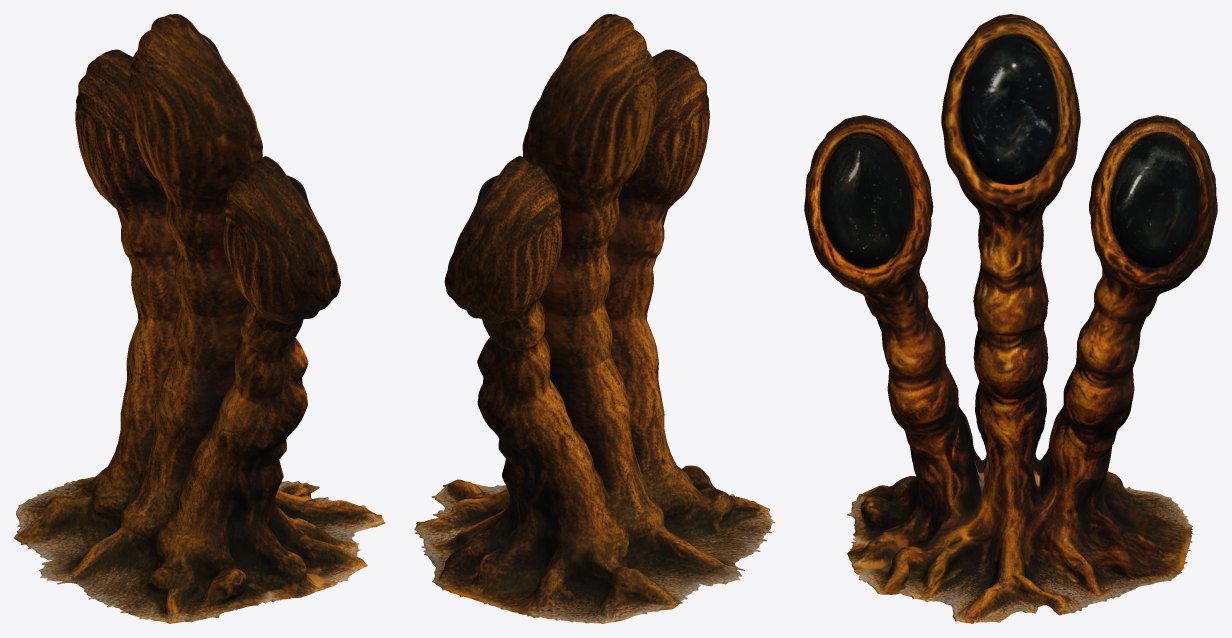
The model's file is Flora5.glb.
3 renders of one model, left to right at view 1: azimuth 30°, elevation 25°; view 2: azimuth 150°, elevation 25°; view 3: azimuth 270°, elevation 25°, orthographic.
Visible parts, largest first — view 1: tripo_node_e1e9e75e-2846-4688-8f8b-5a2ae1f148d5; view 2: tripo_node_e1e9e75e-2846-4688-8f8b-5a2ae1f148d5; view 3: tripo_node_e1e9e75e-2846-4688-8f8b-5a2ae1f148d5.
Part boxes in pixels (left/top/right/bottom): tripo_node_e1e9e75e-2846-4688-8f8b-5a2ae1f148d5: left=14, top=14, right=385, bottom=623; tripo_node_e1e9e75e-2846-4688-8f8b-5a2ae1f148d5: left=414, top=14, right=775, bottom=623; tripo_node_e1e9e75e-2846-4688-8f8b-5a2ae1f148d5: left=804, top=14, right=1217, bottom=623.
Size of the model in its own units: 0.6335 by 1 by 0.7225.
Materials: 1 (1 with a texture image).
